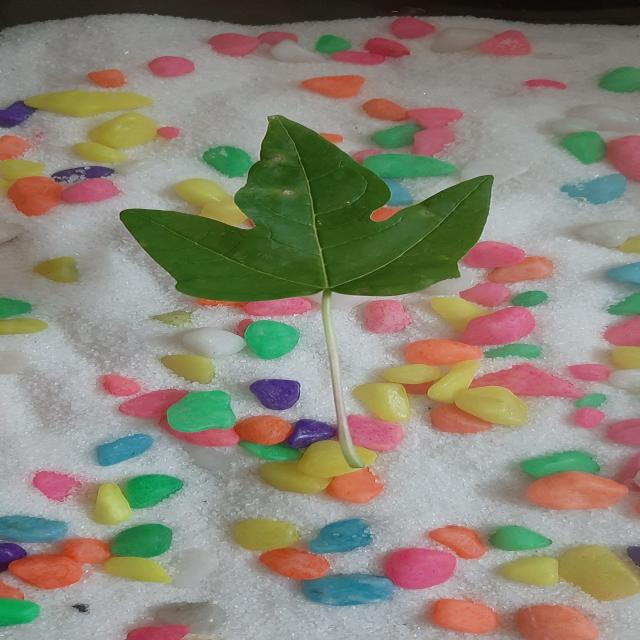papaya: (119, 116, 493, 415)
